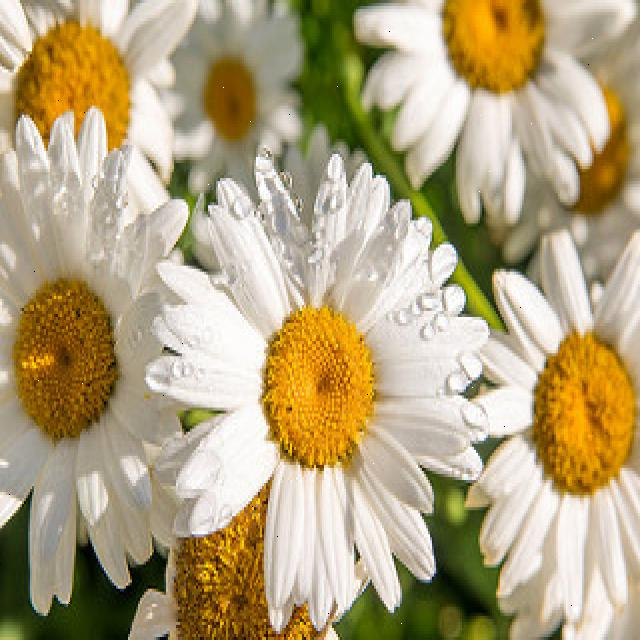Bloomed: (146, 148, 488, 625)
